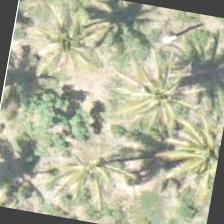Kelapa_Sawit: (114, 48, 218, 152), (46, 125, 152, 223), (22, 0, 127, 96)
